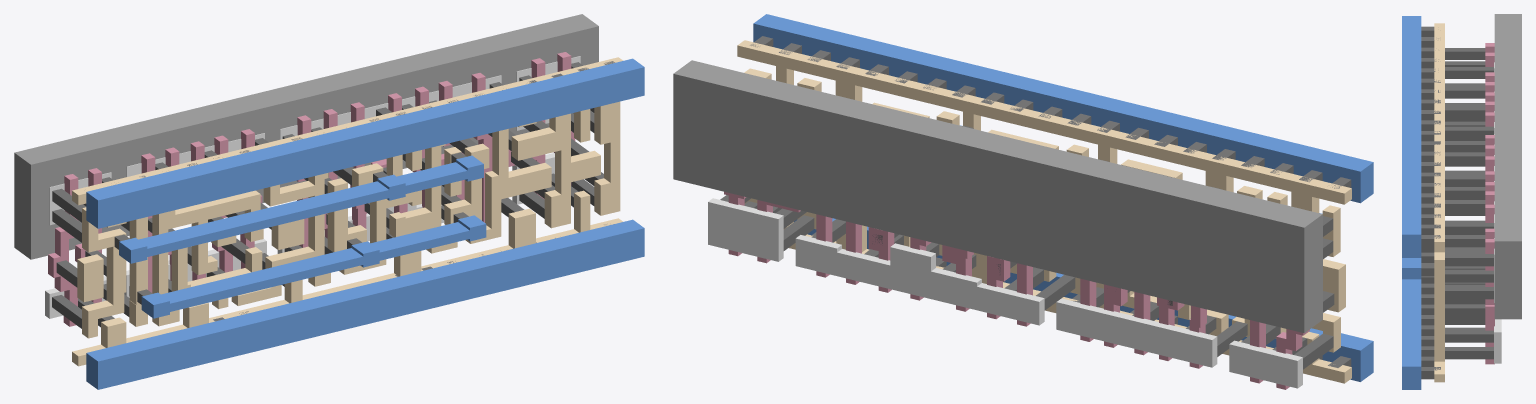
Rendered from sky130_fd_sc_hd__sdfxtp_1.gds.gltf.
3 views of the same model, side by side, from view 1: azimuth 30°, elevation 25°; view 2: azimuth 150°, elevation 25°; view 3: azimuth 270°, elevation 25° (orthographic). The views are drawn at different scales.
Parts seen in each view (by area): view 1: sky130_fd_sc_hd__sdfxtp_1_met1, sky130_fd_sc_hd__sdfxtp_1_li1, sky130_fd_sc_hd__sdfxtp_1_nwell, sky130_fd_sc_hd__sdfxtp_1_poly, sky130_fd_sc_hd__sdfxtp_1_licon, sky130_fd_sc_hd__sdfxtp_1_diff, sky130_fd_sc_hd__sdfxtp_1_mcon; view 2: sky130_fd_sc_hd__sdfxtp_1_nwell, sky130_fd_sc_hd__sdfxtp_1_li1, sky130_fd_sc_hd__sdfxtp_1_diff, sky130_fd_sc_hd__sdfxtp_1_met1, sky130_fd_sc_hd__sdfxtp_1_poly, sky130_fd_sc_hd__sdfxtp_1_licon, sky130_fd_sc_hd__sdfxtp_1_mcon; view 3: sky130_fd_sc_hd__sdfxtp_1_licon, sky130_fd_sc_hd__sdfxtp_1_nwell, sky130_fd_sc_hd__sdfxtp_1_met1, sky130_fd_sc_hd__sdfxtp_1_mcon, sky130_fd_sc_hd__sdfxtp_1_li1, sky130_fd_sc_hd__sdfxtp_1_poly, sky130_fd_sc_hd__sdfxtp_1_diff.
Boxes of the visible parts, <box> form: sky130_fd_sc_hd__sdfxtp_1_met1: <box>86,58,644,389</box>; sky130_fd_sc_hd__sdfxtp_1_li1: <box>72,57,622,366</box>; sky130_fd_sc_hd__sdfxtp_1_nwell: <box>14,14,598,259</box>; sky130_fd_sc_hd__sdfxtp_1_poly: <box>48,52,575,326</box>; sky130_fd_sc_hd__sdfxtp_1_licon: <box>52,62,603,328</box>; sky130_fd_sc_hd__sdfxtp_1_diff: <box>45,56,580,318</box>; sky130_fd_sc_hd__sdfxtp_1_mcon: <box>114,61,614,321</box>; sky130_fd_sc_hd__sdfxtp_1_nwell: <box>673,60,1322,333</box>; sky130_fd_sc_hd__sdfxtp_1_li1: <box>737,40,1351,383</box>; sky130_fd_sc_hd__sdfxtp_1_diff: <box>708,198,1302,388</box>; sky130_fd_sc_hd__sdfxtp_1_met1: <box>753,14,1373,381</box>; sky130_fd_sc_hd__sdfxtp_1_poly: <box>724,191,1309,389</box>; sky130_fd_sc_hd__sdfxtp_1_licon: <box>720,125,1334,369</box>; sky130_fd_sc_hd__sdfxtp_1_mcon: <box>750,36,1351,367</box>; sky130_fd_sc_hd__sdfxtp_1_licon: <box>1445,48,1493,359</box>; sky130_fd_sc_hd__sdfxtp_1_nwell: <box>1494,14,1521,319</box>; sky130_fd_sc_hd__sdfxtp_1_met1: <box>1402,16,1421,389</box>; sky130_fd_sc_hd__sdfxtp_1_mcon: <box>1421,26,1440,379</box>; sky130_fd_sc_hd__sdfxtp_1_li1: <box>1434,23,1444,382</box>; sky130_fd_sc_hd__sdfxtp_1_poly: <box>1485,43,1494,364</box>; sky130_fd_sc_hd__sdfxtp_1_diff: <box>1494,62,1501,363</box>.
Size of the model in its own units: 10.04 by 3.2 by 2.24.
